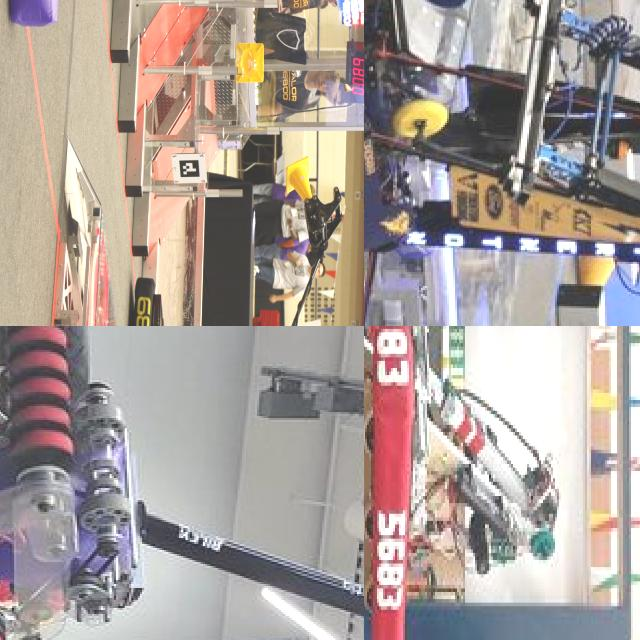FRC-Robots: (0, 326, 364, 640), (364, 0, 640, 326), (364, 326, 571, 640), (124, 123, 364, 326)
